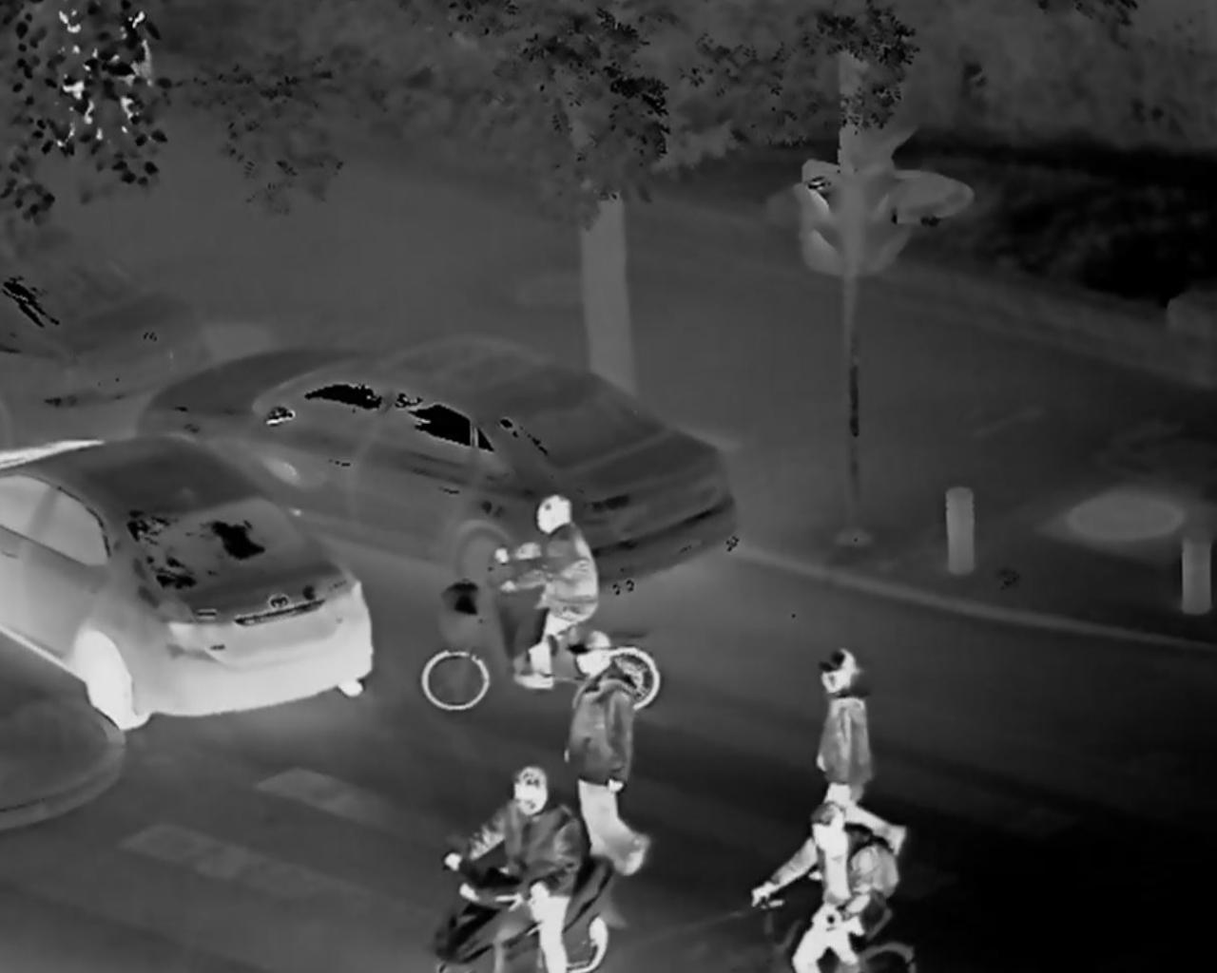person: (458, 754, 588, 973), (750, 799, 898, 973), (560, 623, 647, 867), (497, 493, 593, 692), (816, 647, 904, 861), (102, 2, 156, 152), (57, 9, 109, 153)
